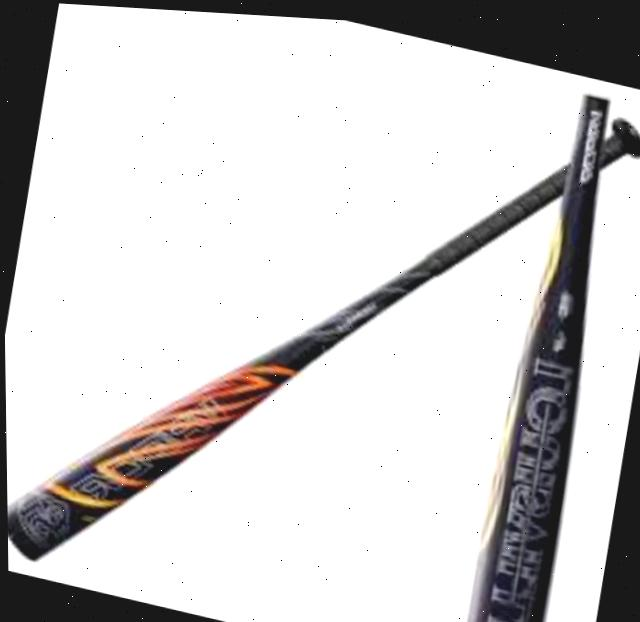baseball bat: (6, 106, 640, 567), (468, 78, 614, 622)
